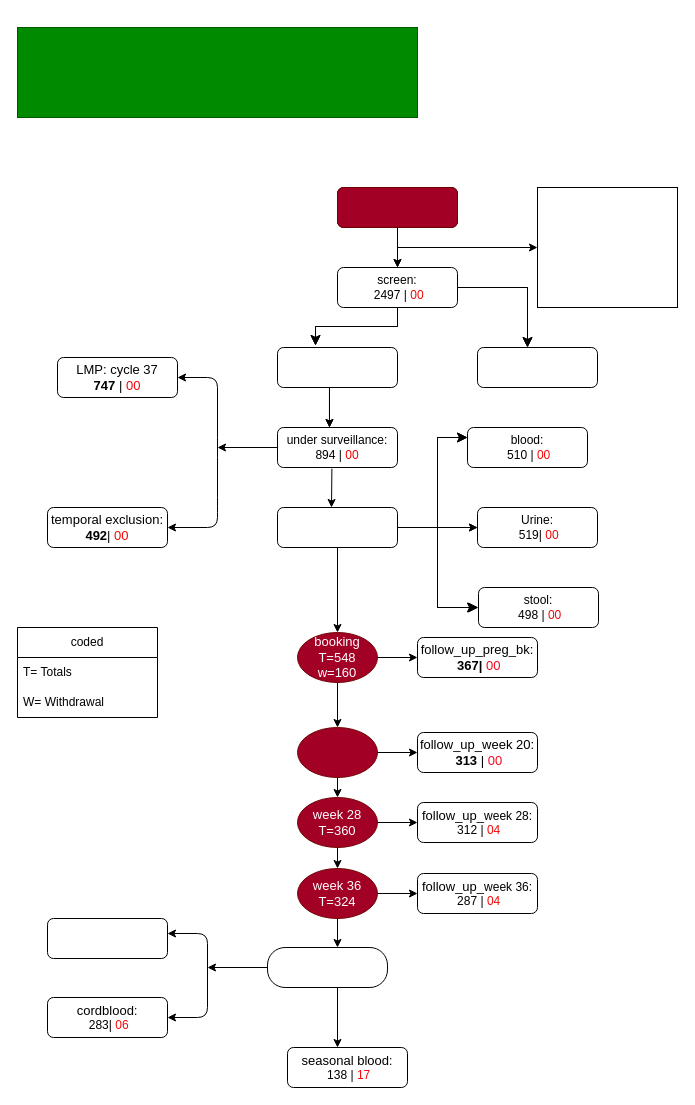
Image size: 695x1105. Some labels were removed from this diagram. The box of each missing label's shape, as (x1, y1, x2, y2) in pixels:
consent V4: 1411 | 00: (276, 346, 398, 388)
Date: 22 April 2025 Eden Weekly statistic report: (16, 26, 418, 118)
decline consent: 666 | 00: (476, 346, 598, 388)
deliveries : 325 | 06: (266, 946, 388, 988)
HCG+: 532 | 00: (276, 506, 398, 548)
Interested:2876 | 00 Not intrested: 331 | 00 Undecided:549 | 00 Other:991 | 00: (536, 186, 678, 308)
placenta : 276 | 14: (46, 918, 168, 958)
Sensitized: 4747 | 00: (336, 186, 458, 228)
week 20 T=380: (296, 726, 378, 778)
